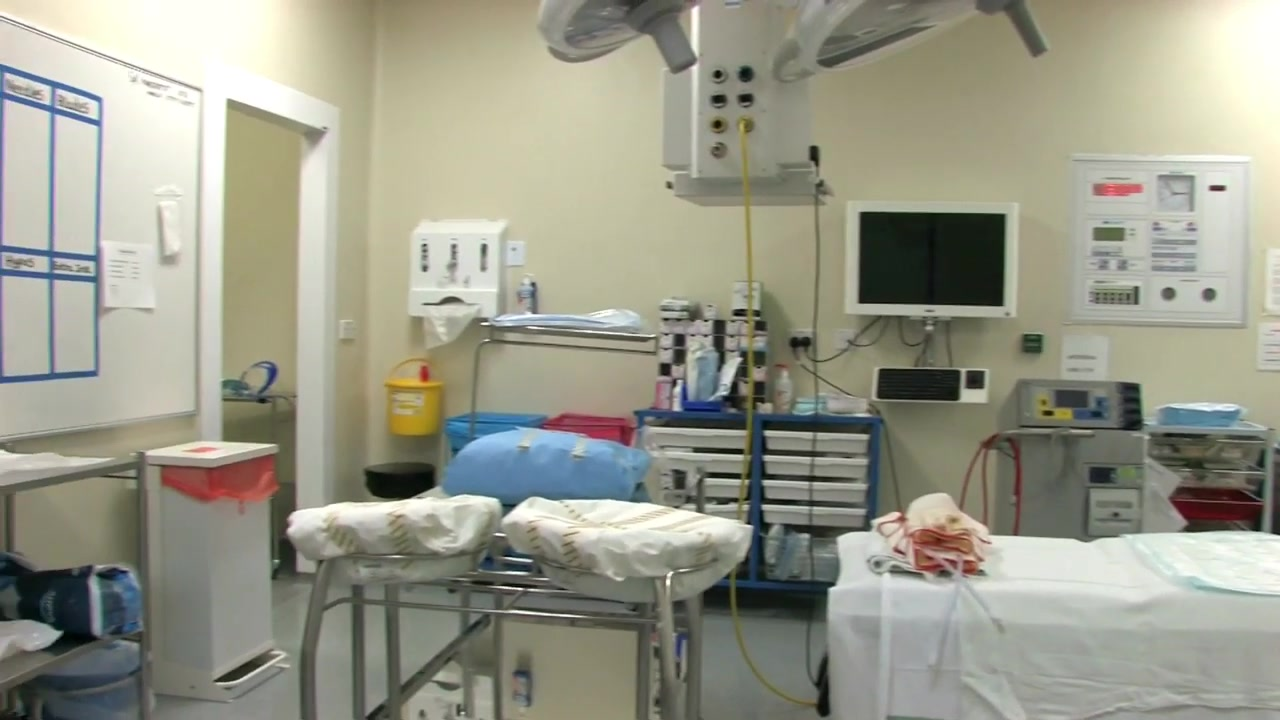computer: (846, 199, 1018, 318)
dispenser: (408, 213, 510, 321)
keyboard: (876, 366, 962, 401)
operating_bed: (827, 529, 1280, 720)
surgical_light: (794, 1, 983, 74), (535, 1, 707, 64)
utility_cart: (637, 398, 874, 584), (1, 452, 154, 720), (1142, 419, 1280, 535)
waste_bin: (142, 438, 290, 699)
